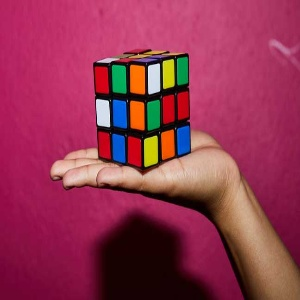cube: (93, 47, 193, 172)
